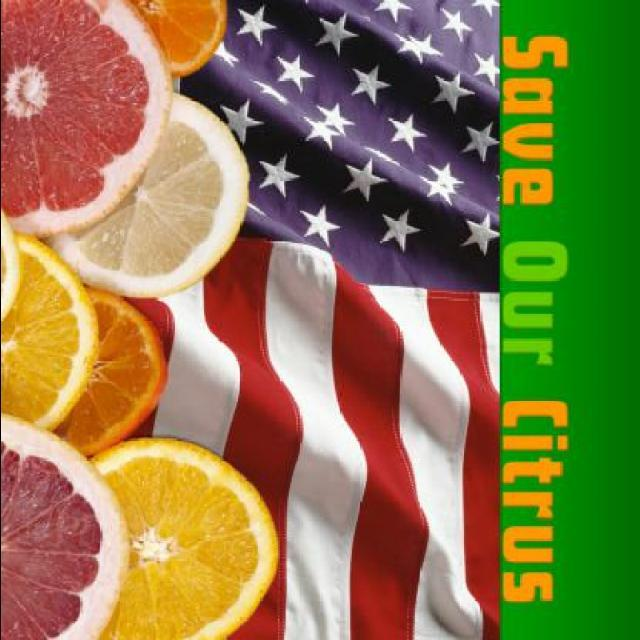Lemon: (0, 0, 282, 640)
